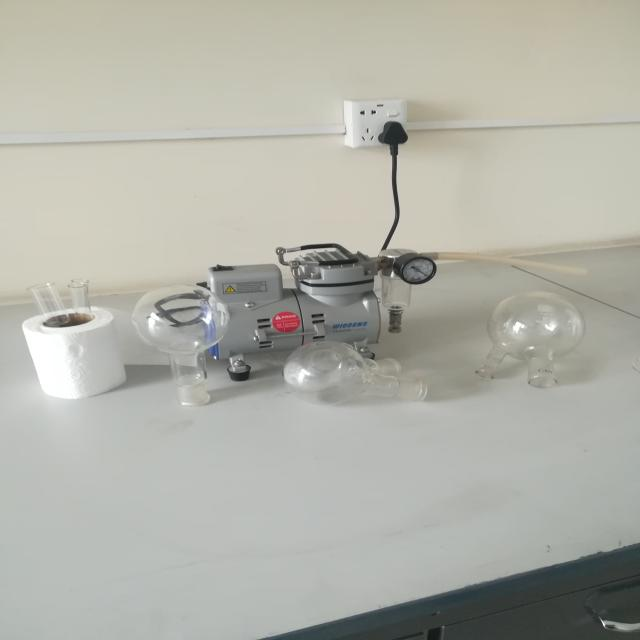Round_Bottom_Flask_Borosilicate_Glass_1_Neck: (101, 270, 248, 417)
Round_Bottom_Flask_Borosilicate_Glass_2_Neck: (461, 278, 604, 412)
Round_Bottom_Flask_Borosilicate_Glass_3_Neck: (265, 323, 447, 432)
